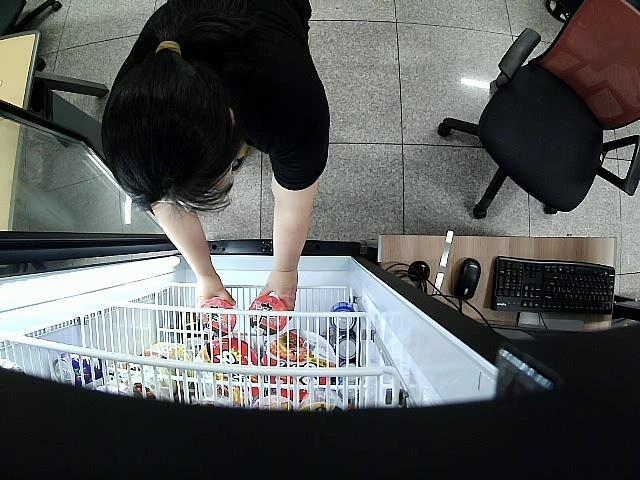02_shinRamen_S: (198, 298, 237, 339), (248, 296, 288, 334)
